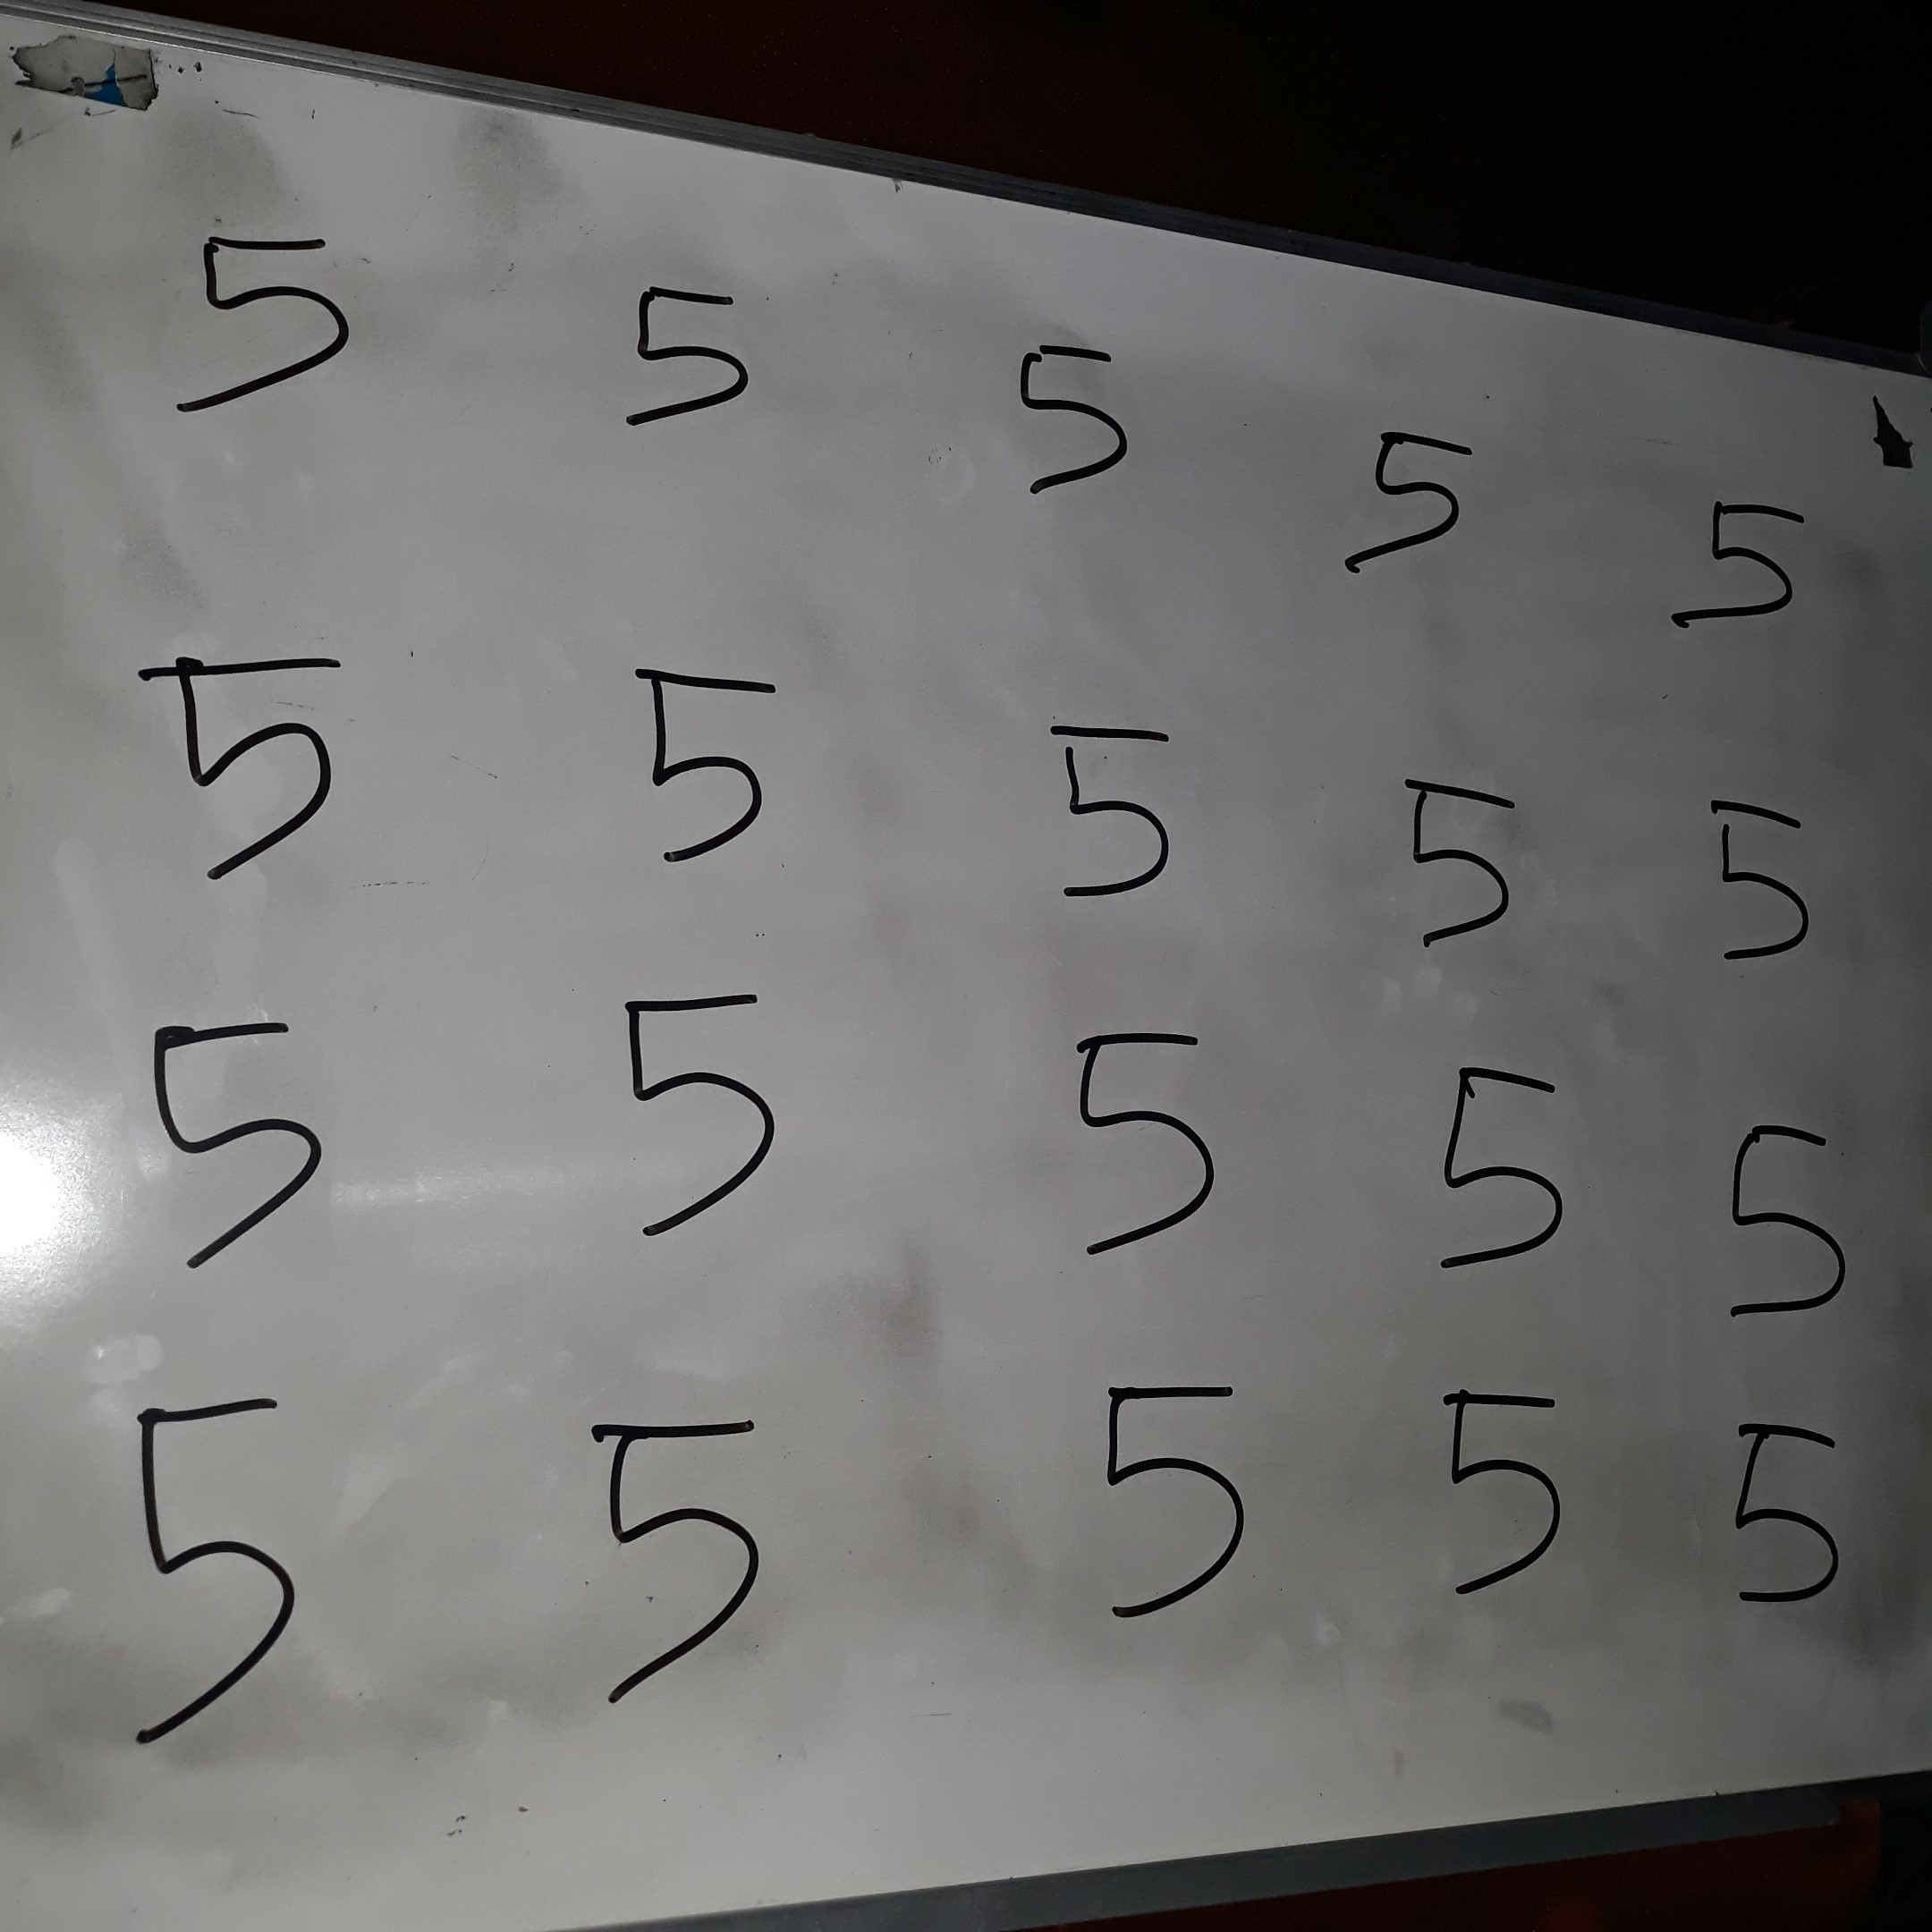num5: (109, 1375, 311, 1758), (121, 629, 356, 895), (141, 987, 335, 1289), (582, 1406, 770, 1711), (1072, 1365, 1260, 1642), (606, 976, 791, 1251), (170, 199, 368, 439), (1410, 1360, 1594, 1609), (1053, 1021, 1224, 1272), (1699, 1395, 1866, 1622), (1030, 705, 1183, 921), (631, 657, 784, 877), (1710, 1114, 1860, 1335), (1424, 1055, 1573, 1277), (1381, 751, 1532, 959), (1682, 781, 1835, 981), (1327, 409, 1491, 580), (605, 271, 768, 443), (985, 333, 1148, 504), (1666, 479, 1821, 640)
